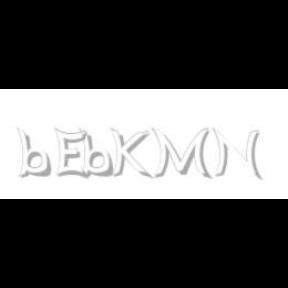E: (55, 128, 88, 180)
K: (110, 128, 150, 180)
M: (152, 128, 210, 180)
N: (212, 128, 260, 180)
b: (16, 128, 54, 178), (78, 128, 116, 178)
